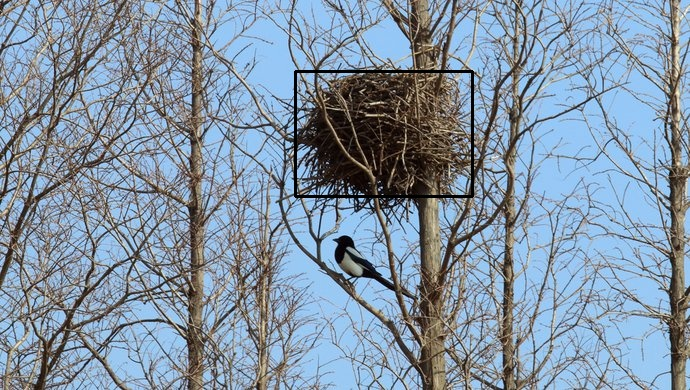bird-nest: (295, 71, 472, 196)
